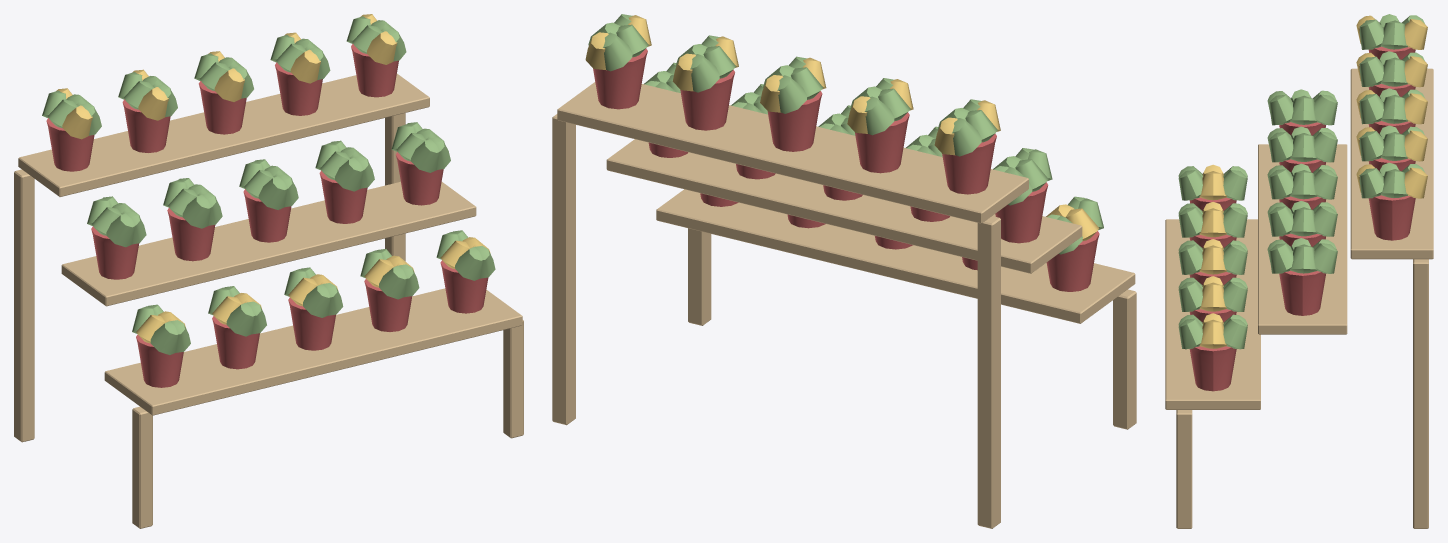
3 renders of one model, left to right at view 1: azimuth 30°, elevation 25°; view 2: azimuth 150°, elevation 25°; view 3: azimuth 270°, elevation 25°, orthographic. The views are drawn at different scales.
Visible parts, largest first — view 1: plant-pot-display; view 2: plant-pot-display; view 3: plant-pot-display.
Boxes of the visible parts, x1=… form: plant-pot-display: x1=14, y1=14, x2=523, y2=528; plant-pot-display: x1=552, y1=14, x2=1136, y2=528; plant-pot-display: x1=1165, y1=14, x2=1433, y2=528.
Size of the model in its own units: 1.39 by 1.18 by 0.84.
